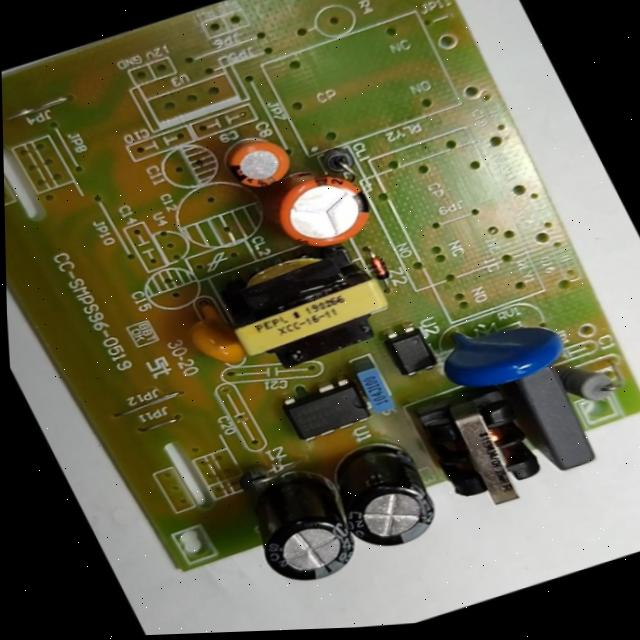Cap1: (259, 156, 387, 263)
Cap2: (217, 128, 303, 197)
Cap3: (313, 430, 450, 561)
Cap4: (231, 465, 371, 594)
MOSFET: (274, 370, 378, 446)
Mov: (427, 301, 575, 398)
Resistor: (554, 350, 626, 414)
Transformer: (204, 233, 406, 382), (410, 375, 556, 520)
